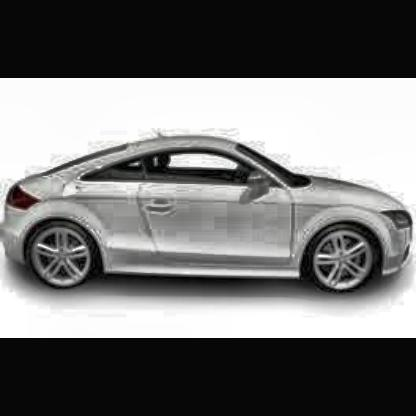Audi TTS Coupe 2012: (5, 134, 414, 302)
